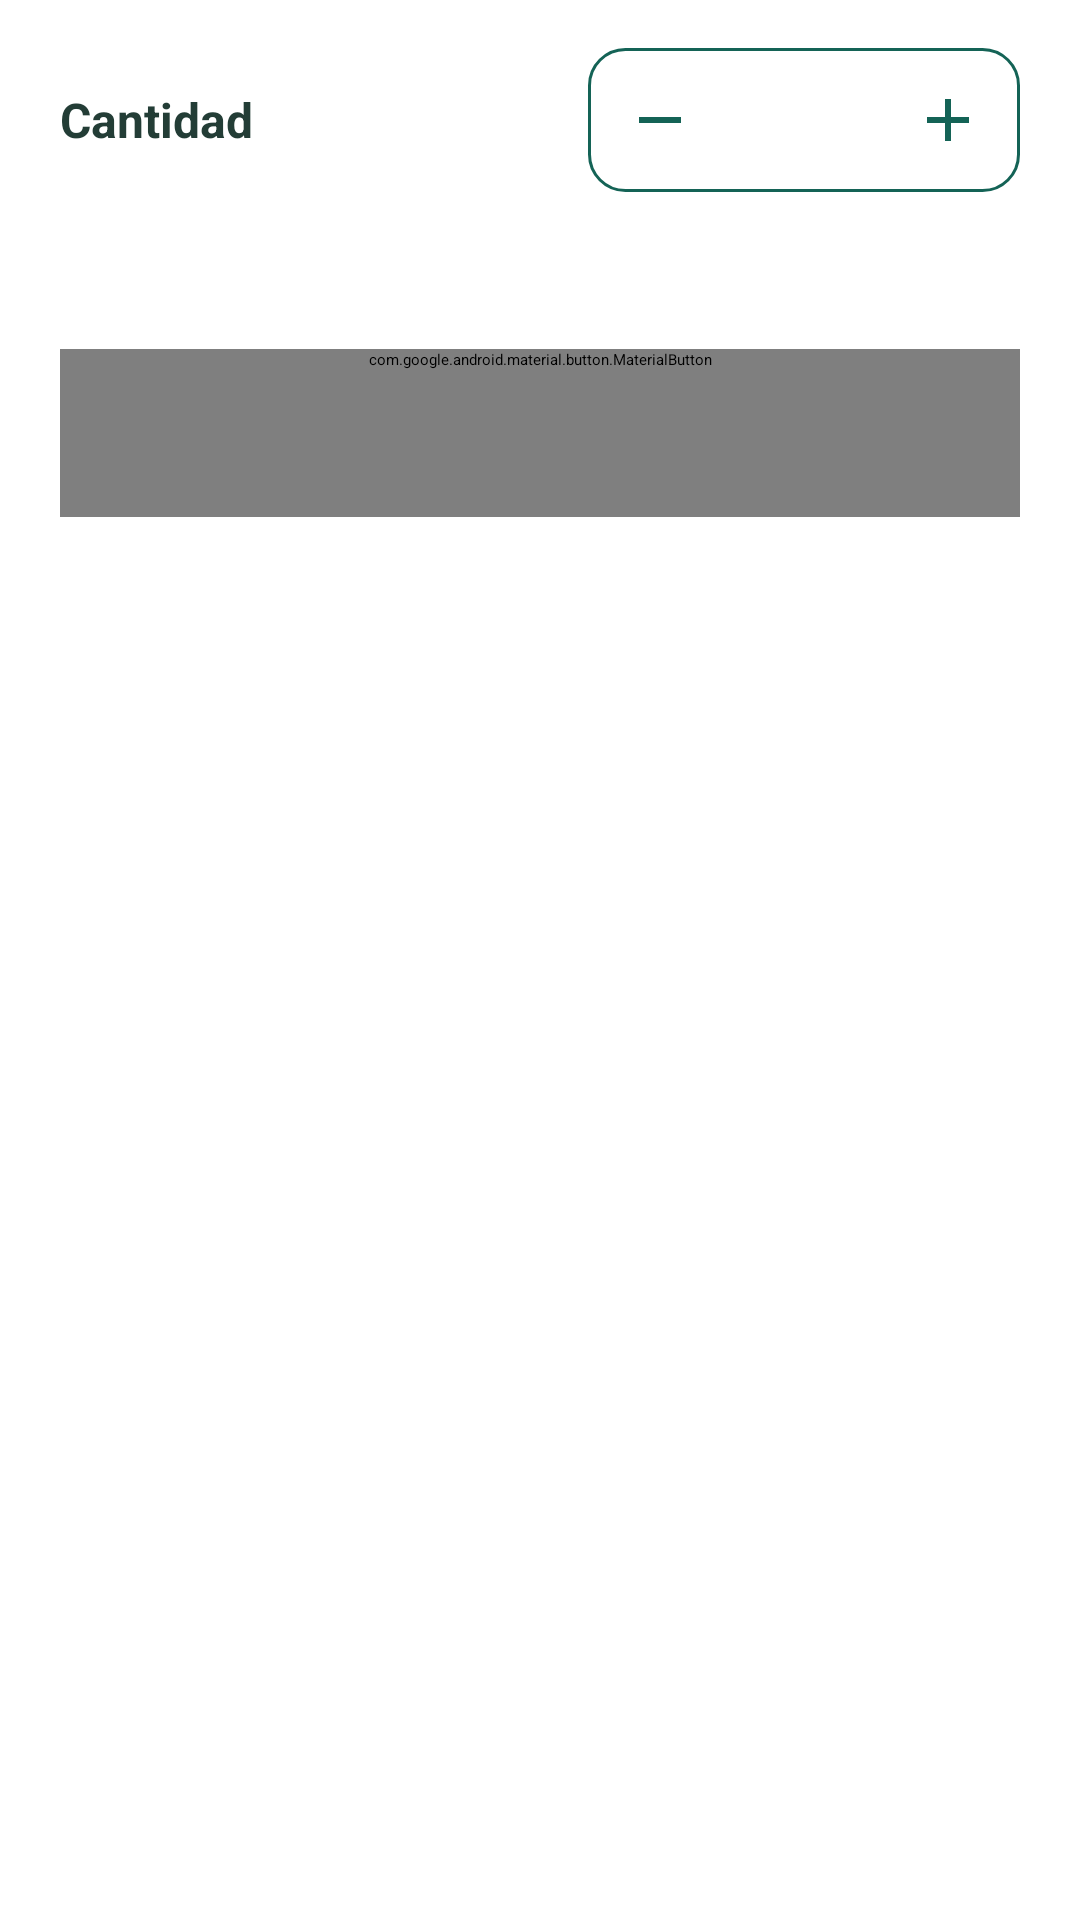

Named icons in this screenshot (1080 × 1920) and their bounding boxes, (x1, y1, x2, y2):
Aumentar cantidad: (876, 48, 1020, 192)
